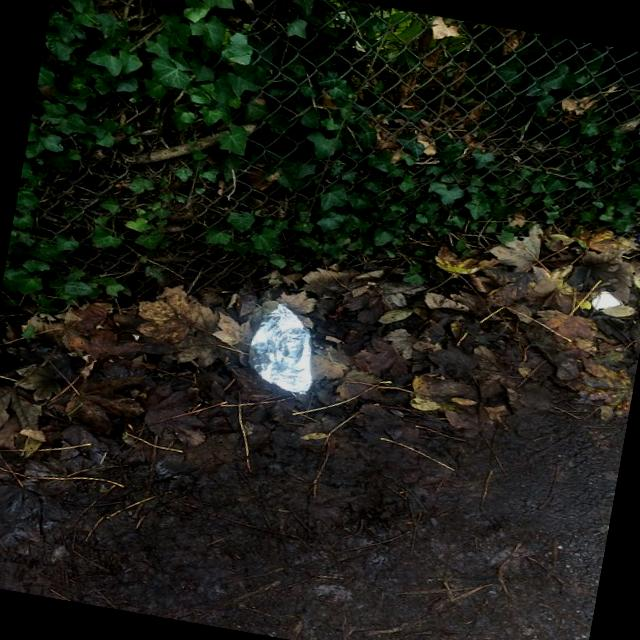Recycle: (232, 299, 332, 401)
